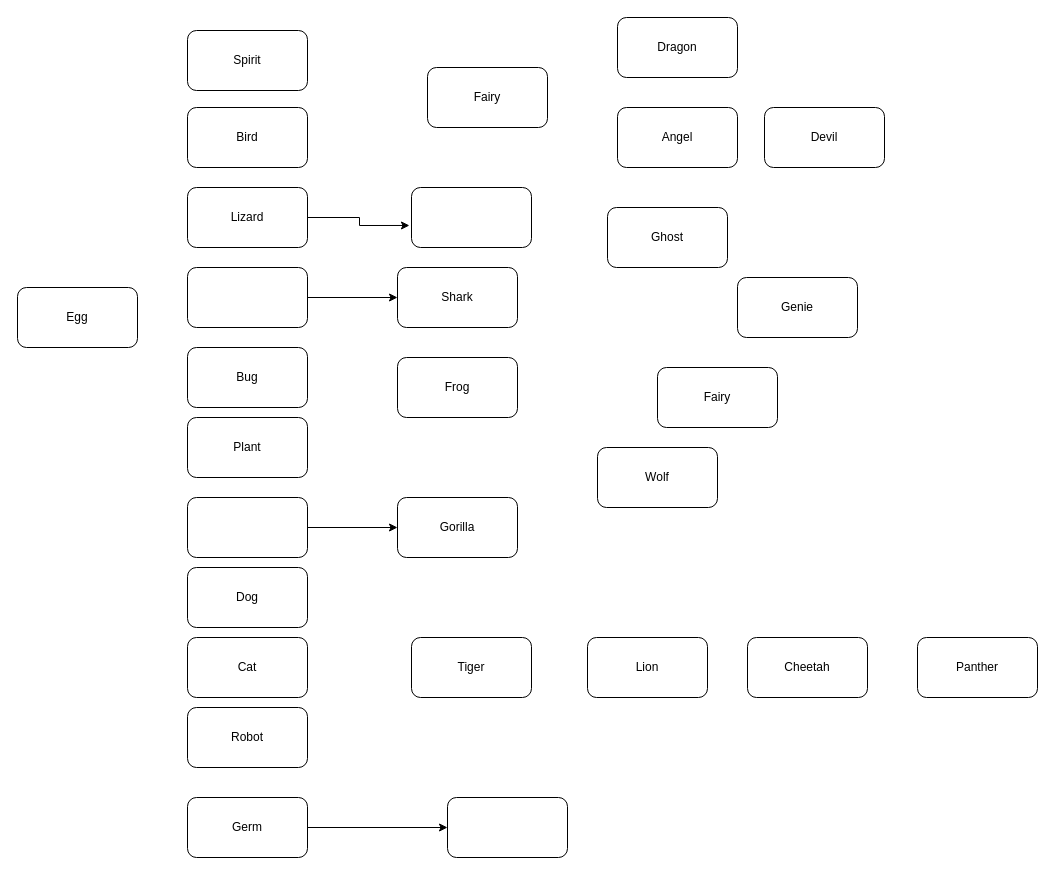
The diagram is 1055 pixels wide and 875 high, and some of its shapes have lost their labels. The centre of each missing label's shape, as x and y in pixels:
"Aligator" belongs at point (471, 217).
"Monkey" belongs at point (247, 527).
"Pirhana" belongs at point (247, 297).
"Slime" belongs at point (507, 827).
